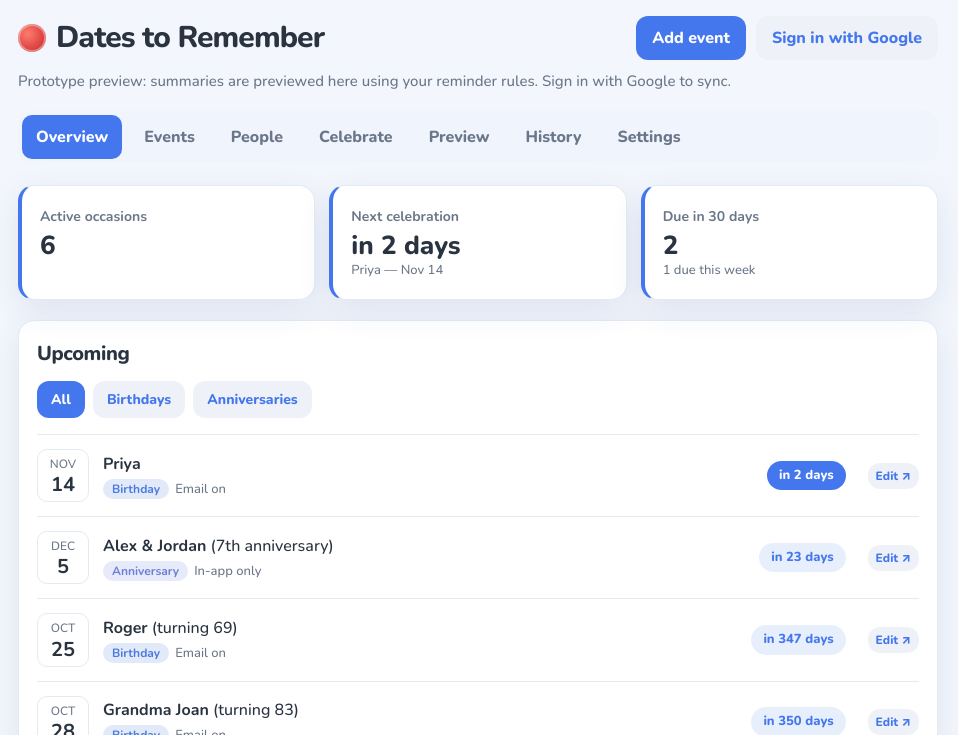
it: Dashboard UI Component › renders demo people in the People tab
Click the button "People" at (257, 137), box [217, 115, 297, 159]
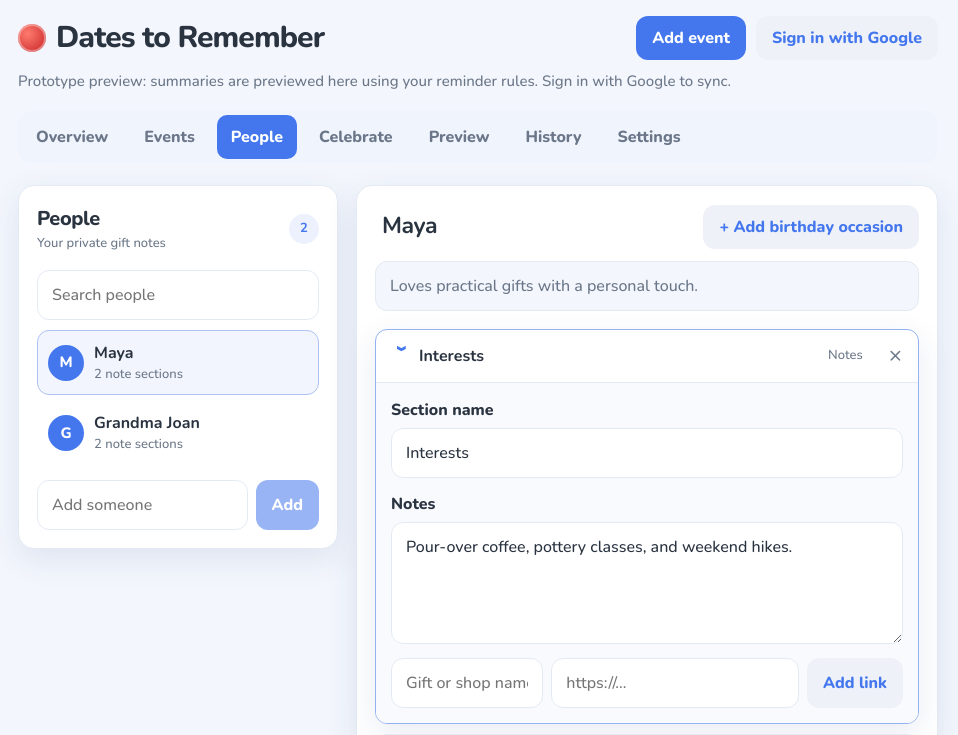
Result: the heading "People" is shown at [37, 205, 100, 232]
Result: the button "M Maya 2 note sections" is shown at [37, 330, 319, 395]
